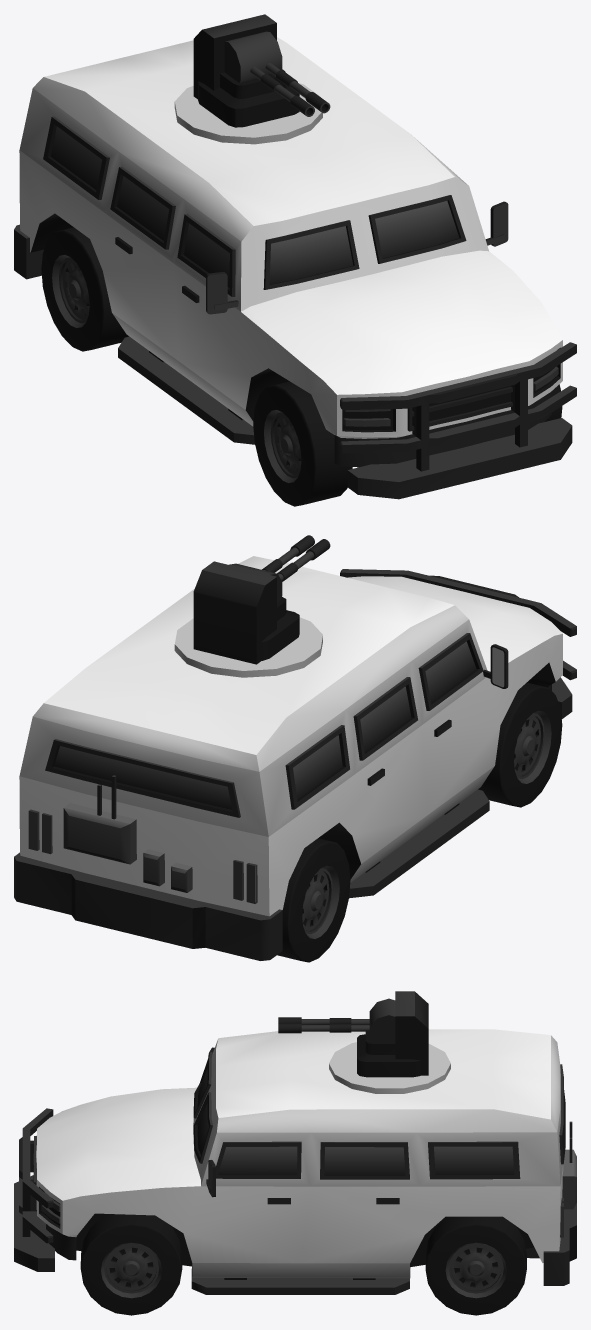
Rendered from ZhanDouSUV00.fbx.
3 renders of one model, top to bottom at view 1: azimuth 30°, elevation 25°; view 2: azimuth 150°, elevation 25°; view 3: azimuth 270°, elevation 25°, orthographic. The views are drawn at different scales.
Parts seen in each view (by area): view 1: ZhanDouSUV00; view 2: ZhanDouSUV00; view 3: ZhanDouSUV00.
Part boxes in pixels (x1,y1,x2,y2): ZhanDouSUV00: [14, 14, 576, 506]; ZhanDouSUV00: [14, 535, 576, 962]; ZhanDouSUV00: [14, 991, 576, 1315].
Size of the model in its own units: 382 by 392 by 761.
